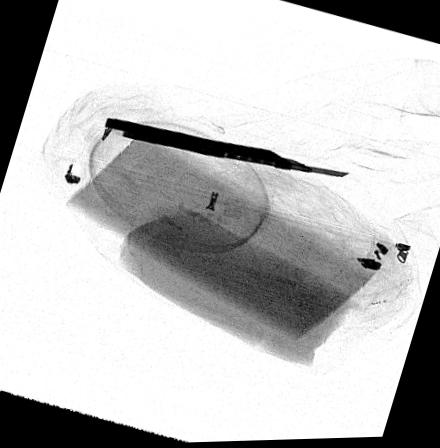Knife: (103, 117, 349, 180)
